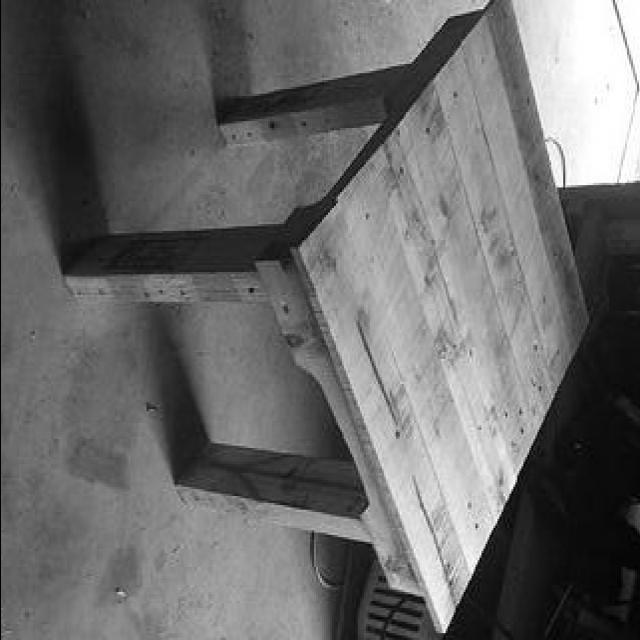table: (62, 2, 584, 630)
